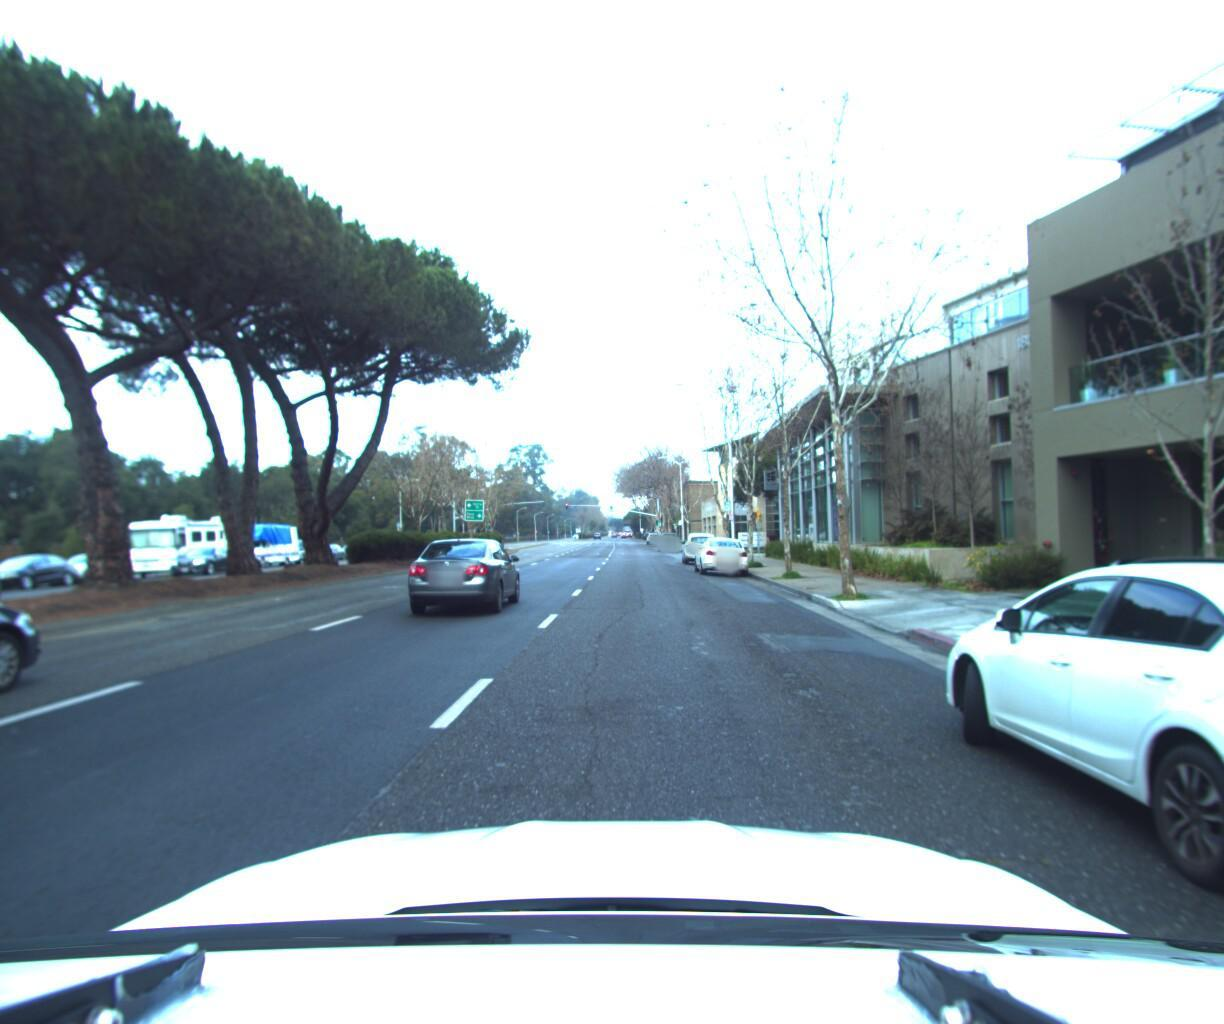car: (929, 538, 1224, 1009), (0, 549, 70, 806), (401, 536, 525, 622), (0, 555, 85, 598), (43, 550, 137, 588), (689, 528, 751, 575), (0, 538, 28, 623), (167, 547, 243, 579), (676, 527, 720, 563), (659, 528, 682, 547)
other_vehicle: (113, 506, 257, 584), (227, 519, 308, 571)
